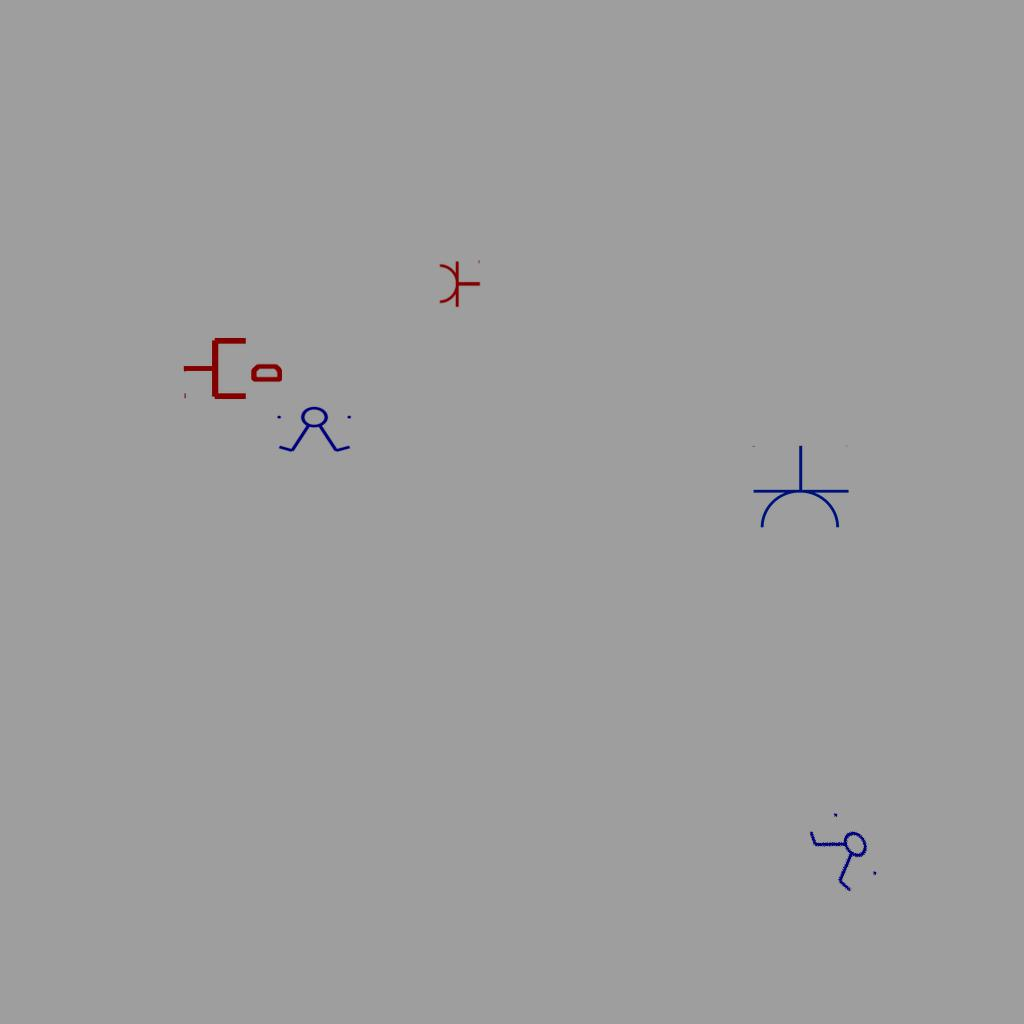Datenanschluss_einfach: (182, 334, 282, 403)
Schukosteckdose_einfach: (750, 445, 850, 532), (438, 258, 481, 308)
Serienschalter: (801, 803, 889, 901), (273, 406, 357, 454)
